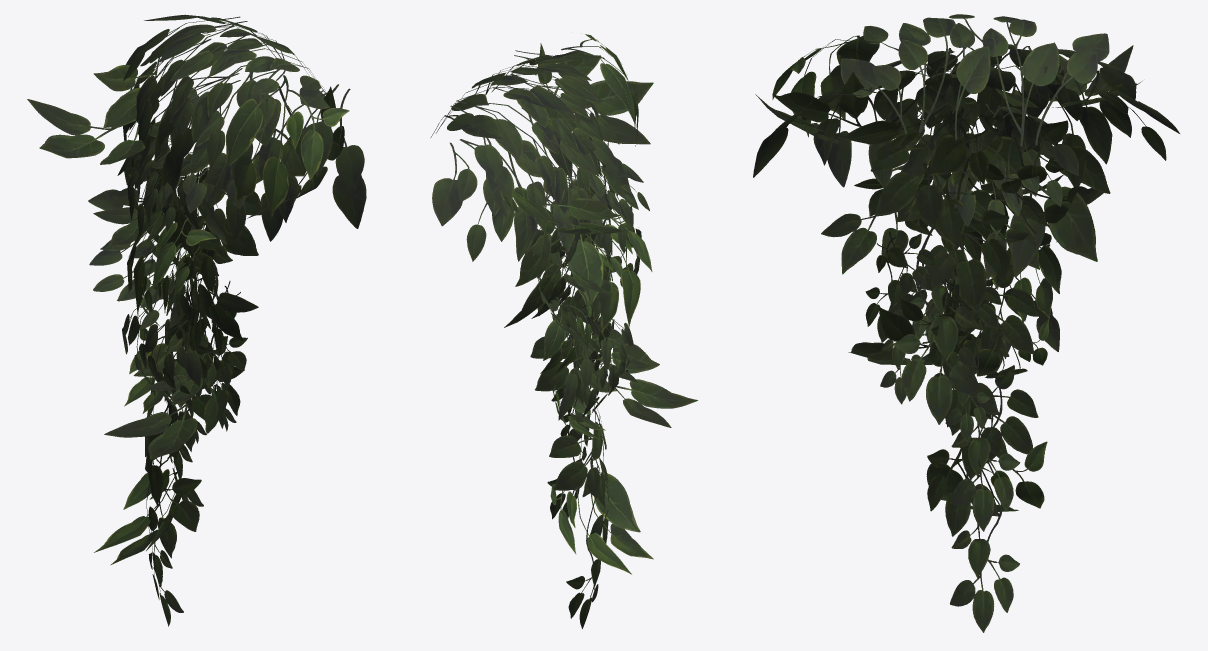
3 renders of one model, left to right at view 1: azimuth 30°, elevation 25°; view 2: azimuth 150°, elevation 25°; view 3: azimuth 270°, elevation 25°, orthographic. The views are drawn at different scales.
Visible parts, largest first — view 1: body0_model0_lod0_mesh0; view 2: body0_model0_lod0_mesh0; view 3: body0_model0_lod0_mesh0.
Boxes of the visible parts, left/top/right/bottom form: body0_model0_lod0_mesh0: left=27, top=14, right=366, bottom=626; body0_model0_lod0_mesh0: left=430, top=34, right=697, bottom=628; body0_model0_lod0_mesh0: left=753, top=14, right=1179, bottom=632.
Bounding box in the file's own units: 315 × 709 × 453.
Materials: 1 (1 with a texture image).
